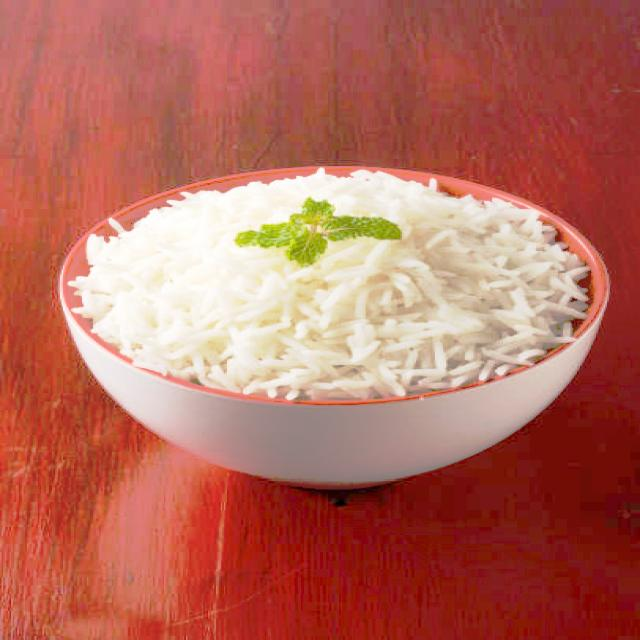rice: (66, 168, 593, 402)
